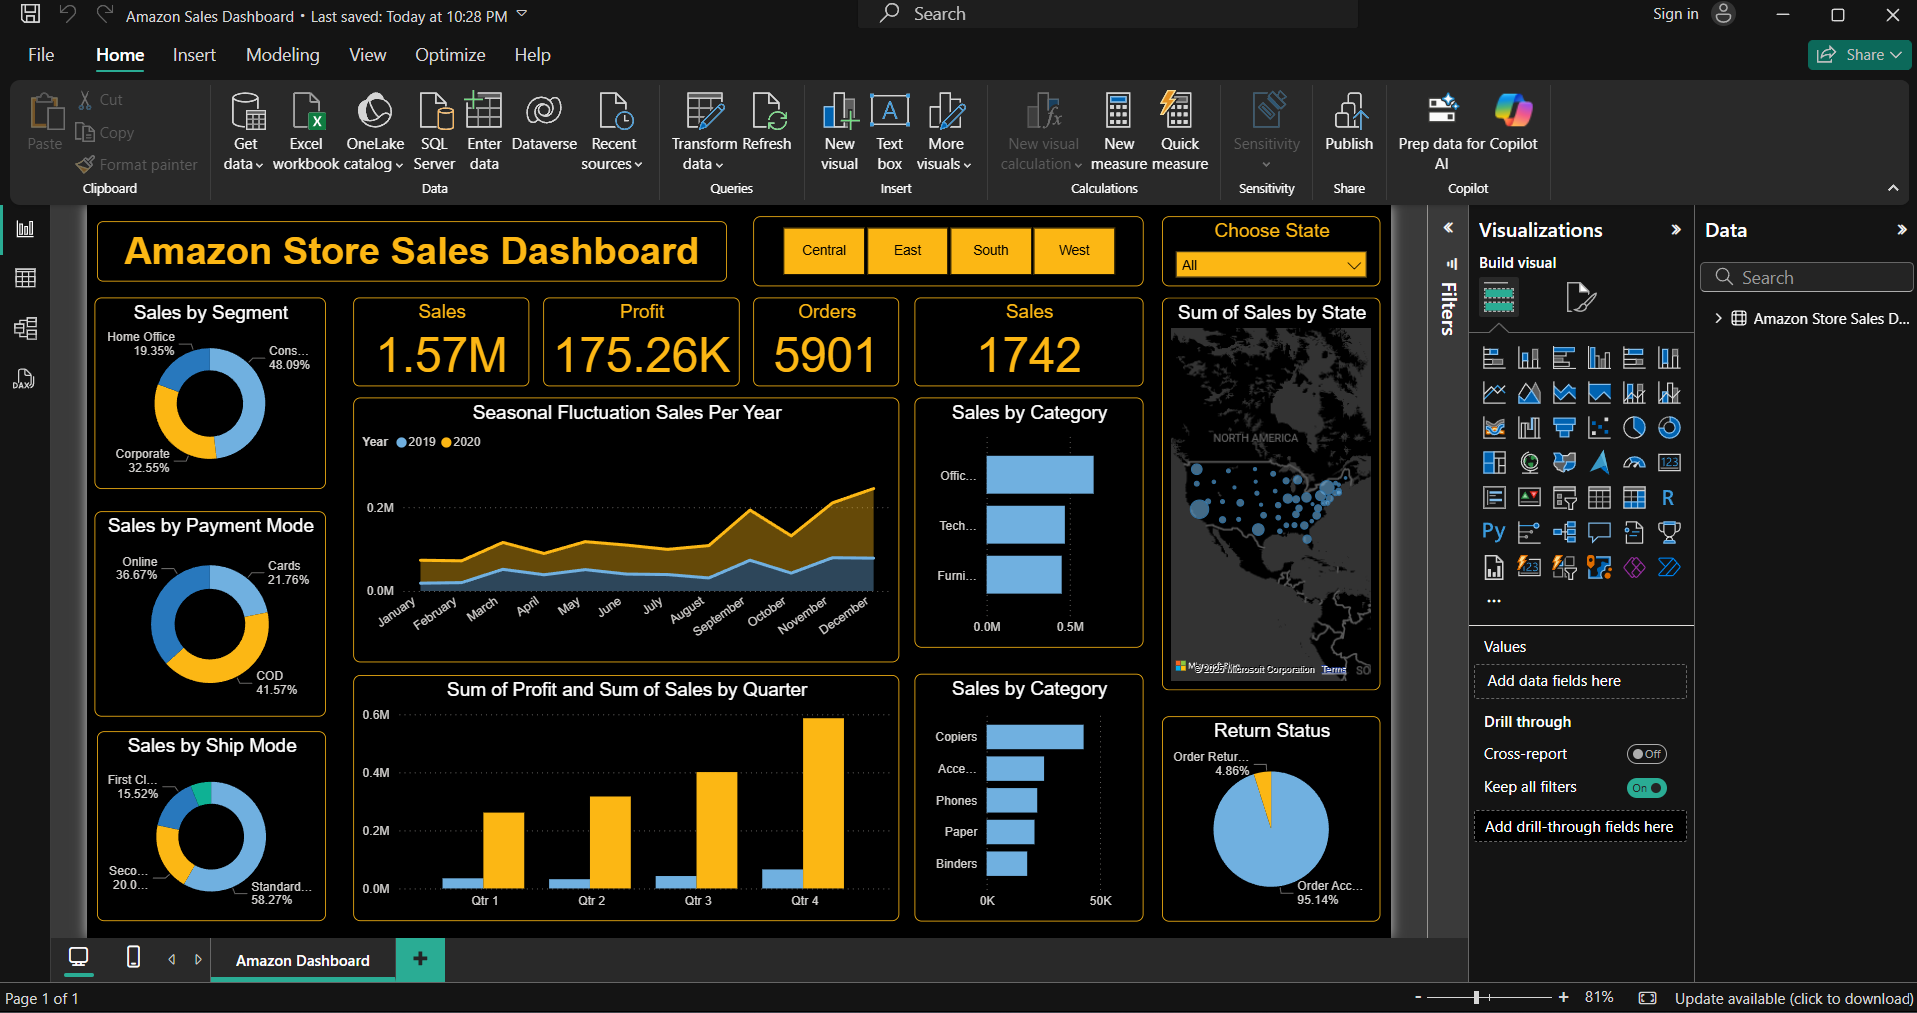

This screenshot's page, from the dashboard's own definition file:
{"tool":"powerbi","page":{"name":"Amazon Dashboard","canvas":[1280,720],"ordinal":0},"visuals":[{"type":"donutChart","title":"Sales by Segment","fields":{"Y":["Sum(Amazon Store Sales Data xlsx - Sheet1 (1).Sales)"],"Category":["Amazon Store Sales Data xlsx - Sheet1 (1).Segment"]},"box":[7.4,90.8,227,187.7],"z":0},{"type":"donutChart","title":"Sales by Ship Mode","fields":{"Y":["Sum(Amazon Store Sales Data xlsx - Sheet1 (1).Sales)"],"Category":["Amazon Store Sales Data xlsx - Sheet1 (1).Ship Mode"]},"box":[9.8,516.6,224.5,186.5],"z":1000},{"type":"donutChart","title":"Sales by Payment Mode","fields":{"Series":["Amazon Store Sales Data xlsx - Sheet1 (1).Payment Mode"],"Y":["CountNonNull(Amazon Store Sales Data xlsx - Sheet1 (1).Segment)"]},"box":[7.4,300.6,227,201.2],"z":2000},{"type":"pieChart","title":"Return Status","fields":{"Y":["CountNonNull(Amazon Store Sales Data xlsx - Sheet1 (1).Returns)"],"Category":["Amazon Store Sales Data xlsx - Sheet1 (1).Return Status"]},"box":[1055.2,501.8,214.7,201.2],"z":3000},{"type":"barChart","title":"Sales by Category","fields":{"Y":["Sum(Amazon Store Sales Data xlsx - Sheet1 (1).Sales)"],"Category":["Amazon Store Sales Data xlsx - Sheet1 (1).Category"]},"box":[812.3,189,224.5,245.4],"z":4000},{"type":"barChart","title":"Sales by Category","fields":{"Category":["Amazon Store Sales Data xlsx - Sheet1 (1).Sub-Category"],"Y":["Sum(Amazon Store Sales Data xlsx - Sheet1 (1).Profit)"]},"box":[812.3,460.1,224.5,242.9],"z":5000},{"type":"map","fields":{"Category":["Amazon Store Sales Data xlsx - Sheet1 (1).State"],"Size":["Sum(Amazon Store Sales Data xlsx - Sheet1 (1).Sales)"]},"box":[1055.2,90.8,214.7,385.3],"z":6000},{"type":"stackedAreaChart","title":"Seasonal Fluctuation Sales Per Year ","fields":{"Y":["Sum(Amazon Store Sales Data xlsx - Sheet1 (1).Sales)"],"Category":["Amazon Store Sales Data xlsx - Sheet1 (1).Order Date.Variation.Date Hierarchy.Month"],"Series":["Amazon Store Sales Data xlsx - Sheet1 (1).Order Date.Variation.Date Hierarchy.Year"]},"box":[261.4,189,536.2,260.1],"z":7000},{"type":"clusteredColumnChart","fields":{"Category":["Amazon Store Sales Data xlsx - Sheet1 (1).Order Date.Variation.Date Hierarchy.Quarter"],"Y":["Sum(Amazon Store Sales Data xlsx - Sheet1 (1).Profit)","Sum(Amazon Store Sales Data xlsx - Sheet1 (1).Sales)"]},"box":[261.4,461.4,536.2,241.7],"z":8000},{"type":"slicer","fields":{"Values":["Amazon Store Sales Data xlsx - Sheet1 (1).Region"]},"box":[654,11,382.8,68.7],"z":9000},{"type":"slicer","title":"Choose State","fields":{"Values":["Amazon Store Sales Data xlsx - Sheet1 (1).State"]},"box":[1055.2,11,214.7,68.7],"z":10000},{"type":"card","title":"Sales","fields":{"Values":["Sum(Amazon Store Sales Data xlsx - Sheet1 (1).Sales)"]},"box":[261.4,90.8,173,87.1],"z":11000},{"type":"card","title":"Profit","fields":{"Values":["Sum(Amazon Store Sales Data xlsx - Sheet1 (1).Profit)"]},"box":[447.9,90.8,192.6,87.1],"z":12000},{"type":"card","title":"Orders","fields":{"Values":["CountNonNull(Amazon Store Sales Data xlsx - Sheet1 (1).Product Name)"]},"box":[654,90.8,143.6,87.1],"z":13000},{"type":"card","title":"Sales","fields":{"Values":["Count(Amazon Store Sales Data xlsx - Sheet1 (1).Product Name)"]},"box":[812.3,90.8,224.5,87.1],"z":14000},{"type":"textbox","box":[9.8,16,618.4,58.9],"z":15000}]}

Visuals, with their boxes on the page's 1280x720 design canvas (x1, y1, x2, y2). These are canvas units, not pixel positions in the 1917x1013 screenshot, which may show the page scaled, cropped or inside an application window:
"Sales by Segment" donutChart: bbox=[7, 91, 234, 278]
"Sales by Ship Mode" donutChart: bbox=[10, 517, 234, 703]
"Sales by Payment Mode" donutChart: bbox=[7, 301, 234, 502]
"Return Status" pieChart: bbox=[1055, 502, 1270, 703]
"Sales by Category" barChart: bbox=[812, 189, 1037, 434]
"Sales by Category" barChart: bbox=[812, 460, 1037, 703]
map - Amazon Store Sales Data xlsx - Sheet1 (1).State x Sum(Amazon Store Sales Data xlsx - Sheet1 (1).Sales): bbox=[1055, 91, 1270, 476]
"Seasonal Fluctuation Sales Per Year " stackedAreaChart: bbox=[261, 189, 798, 449]
clusteredColumnChart - Amazon Store Sales Data xlsx - Sheet1 (1).Order Date.Variation.Date Hierarchy.Quarter x Sum(Amazon Store Sales Data xlsx - Sheet1 (1).Profit): bbox=[261, 461, 798, 703]
slicer - Amazon Store Sales Data xlsx - Sheet1 (1).Region: bbox=[654, 11, 1037, 80]
"Choose State" slicer: bbox=[1055, 11, 1270, 80]
"Sales" card: bbox=[261, 91, 434, 178]
"Profit" card: bbox=[448, 91, 640, 178]
"Orders" card: bbox=[654, 91, 798, 178]
"Sales" card: bbox=[812, 91, 1037, 178]
textbox: bbox=[10, 16, 628, 75]
